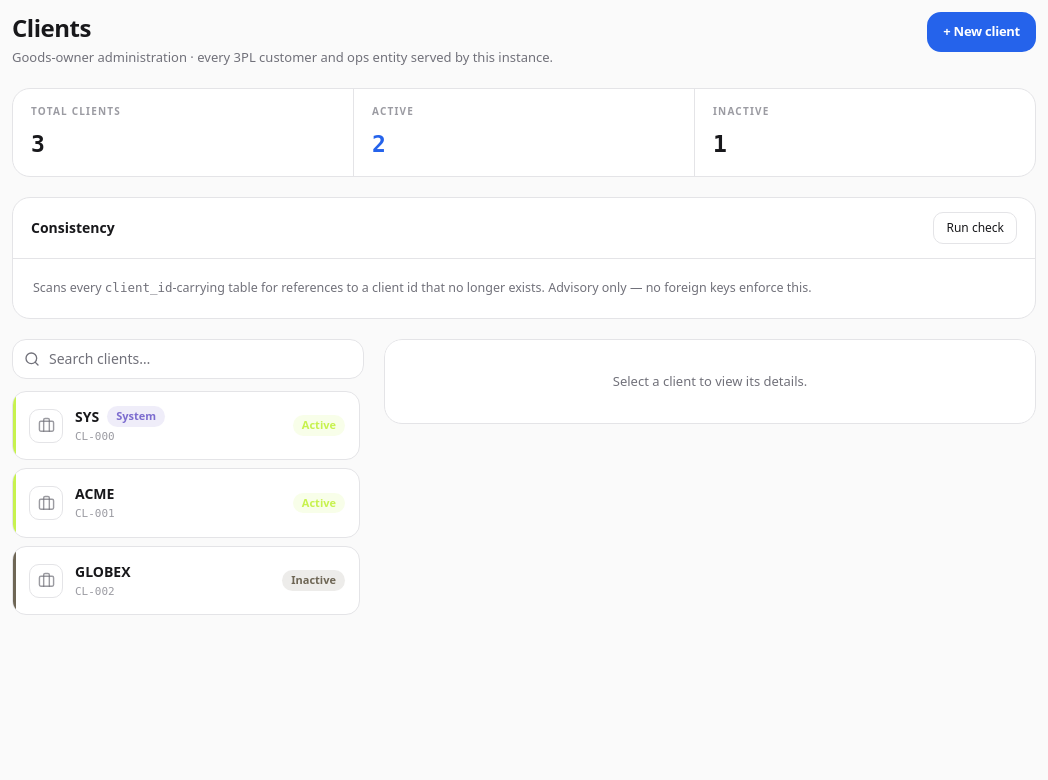
Test: AdminClientsPage › narrows by search only - count tiles and row pills, no state chips, empty detail until clicked
The image size is (1048, 780).
Expected: the text "Select a client to view its details." is shown, left=384, top=339, right=1036, bottom=424
Expected: the text "3" is shown, left=31, top=130, right=45, bottom=156
Step 1. Type "CL-002" into the field with placeholder "Search clients…" → [188, 359], box left=12, top=339, right=364, bottom=379
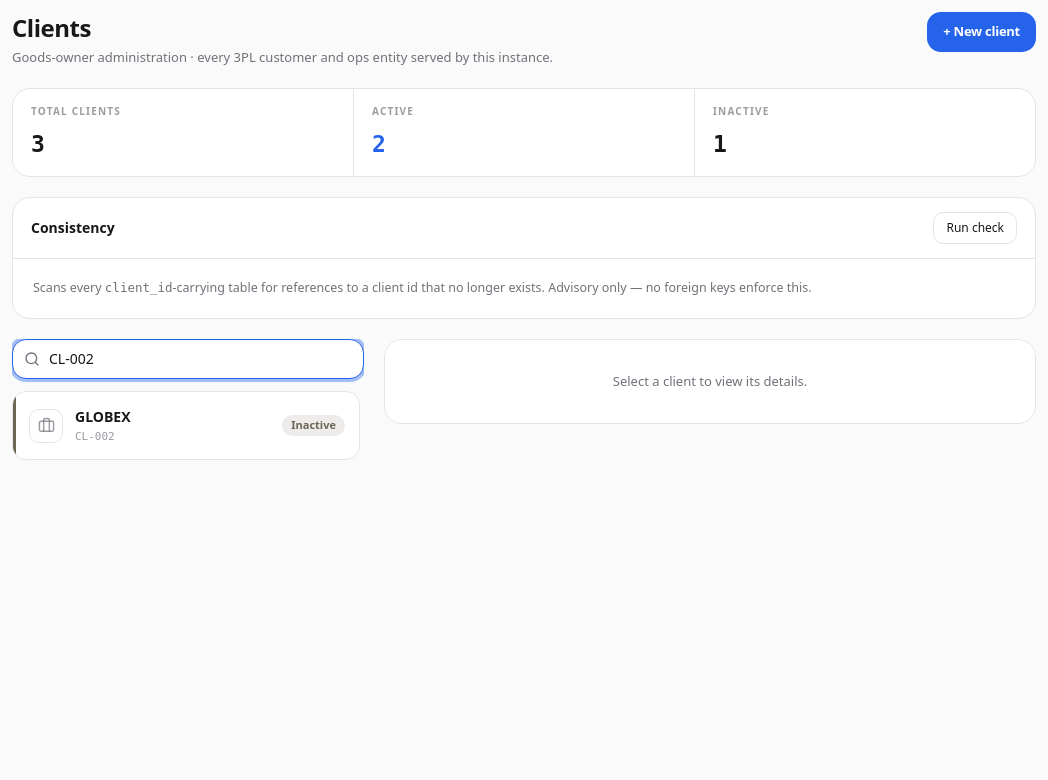
Expected: the text "GLOBEX" is shown, left=75, top=406, right=130, bottom=427
Now the button "ACME" is gone
Now the button "SYS" is gone
